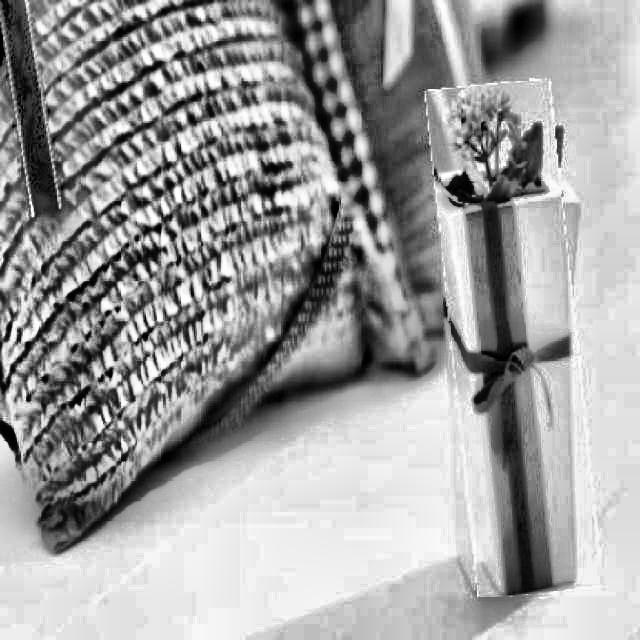plants: (438, 81, 588, 597)
